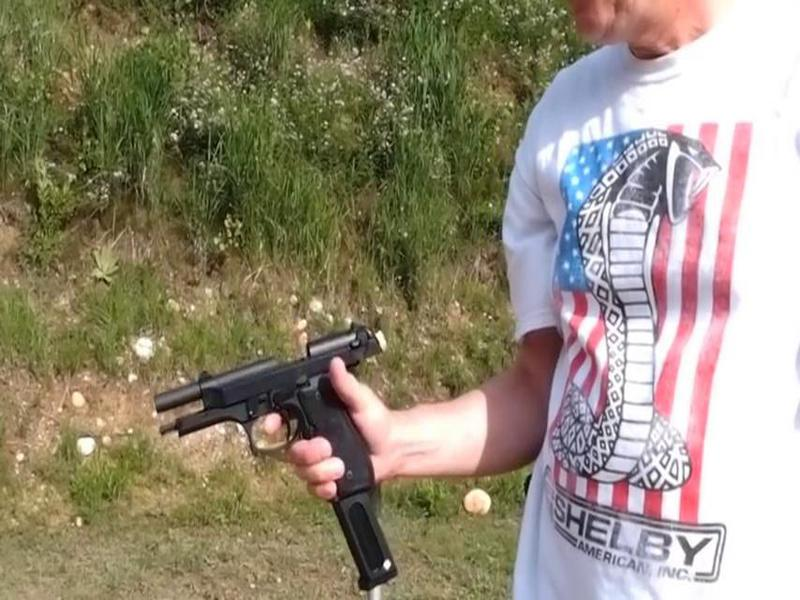Pistola: (132, 307, 407, 509)
